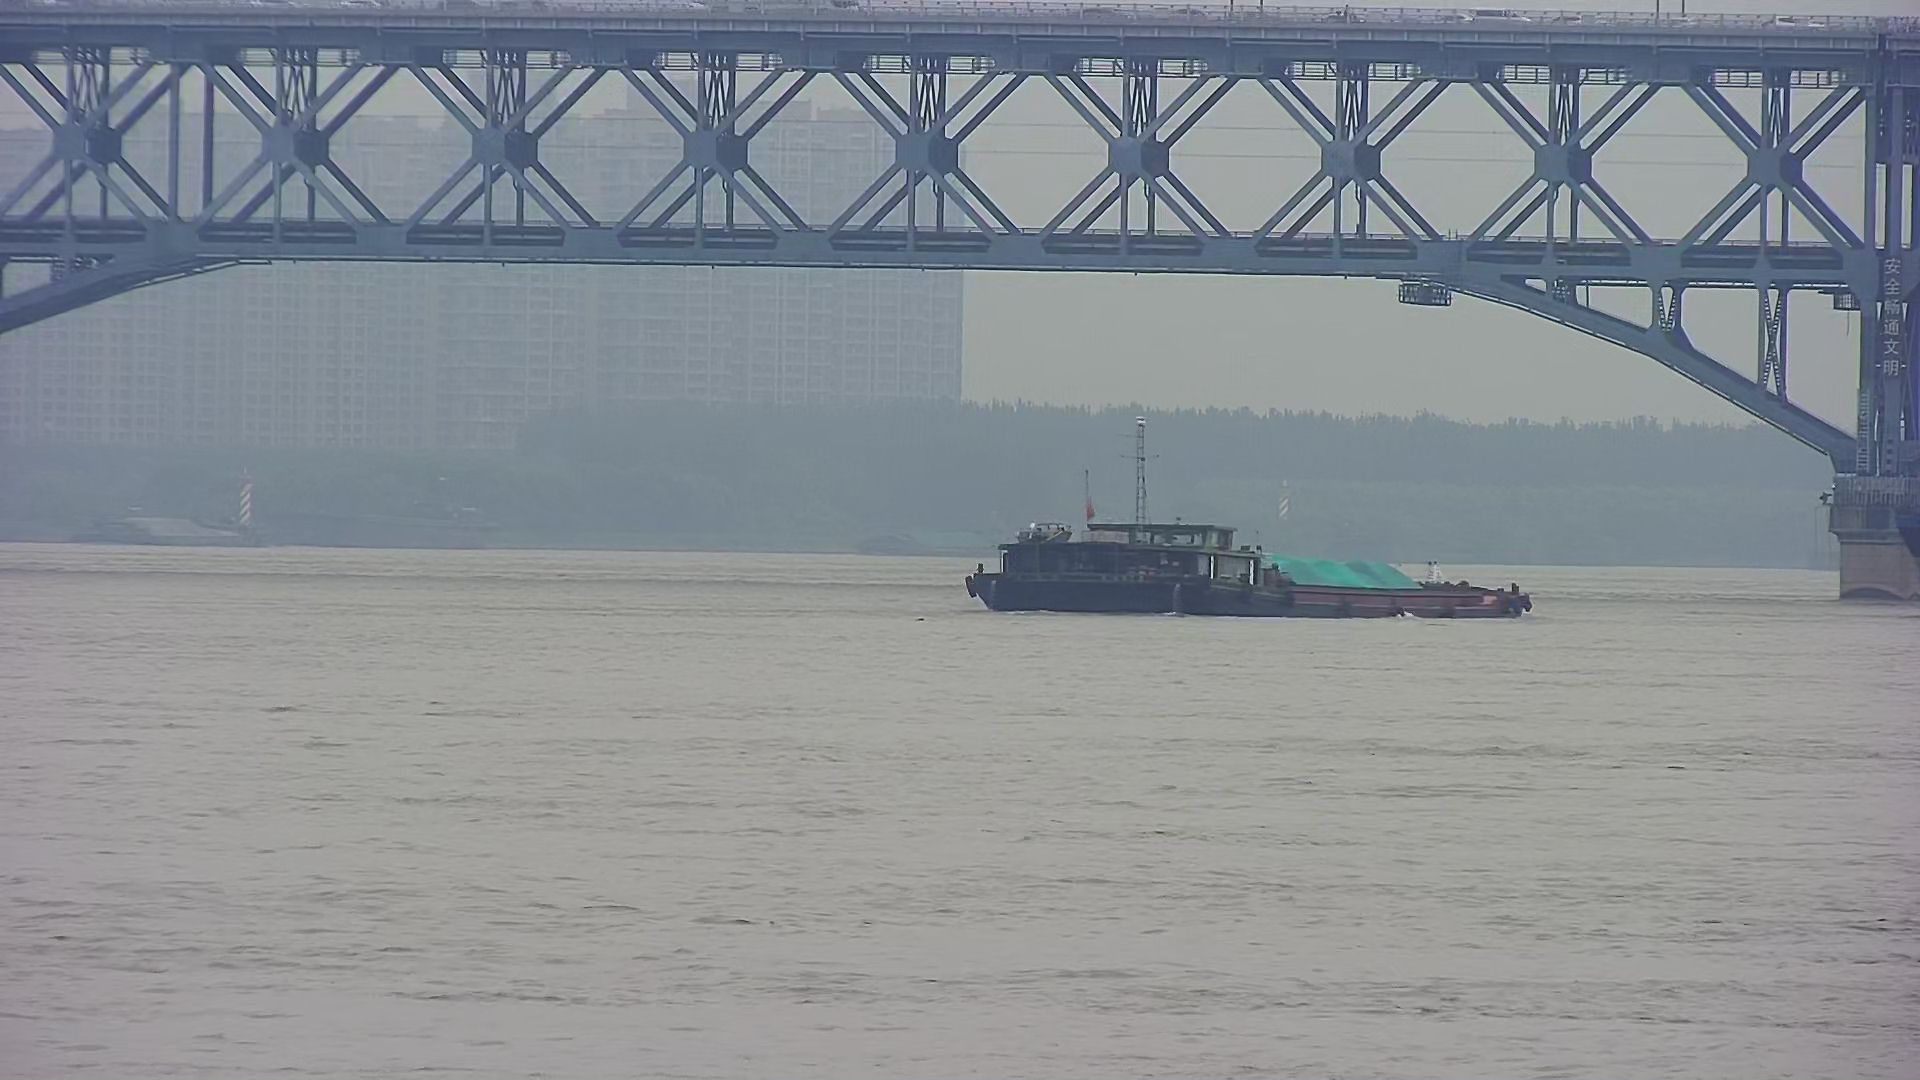bridge: (3, 3, 1911, 475)
ship: (963, 517, 1542, 622)
